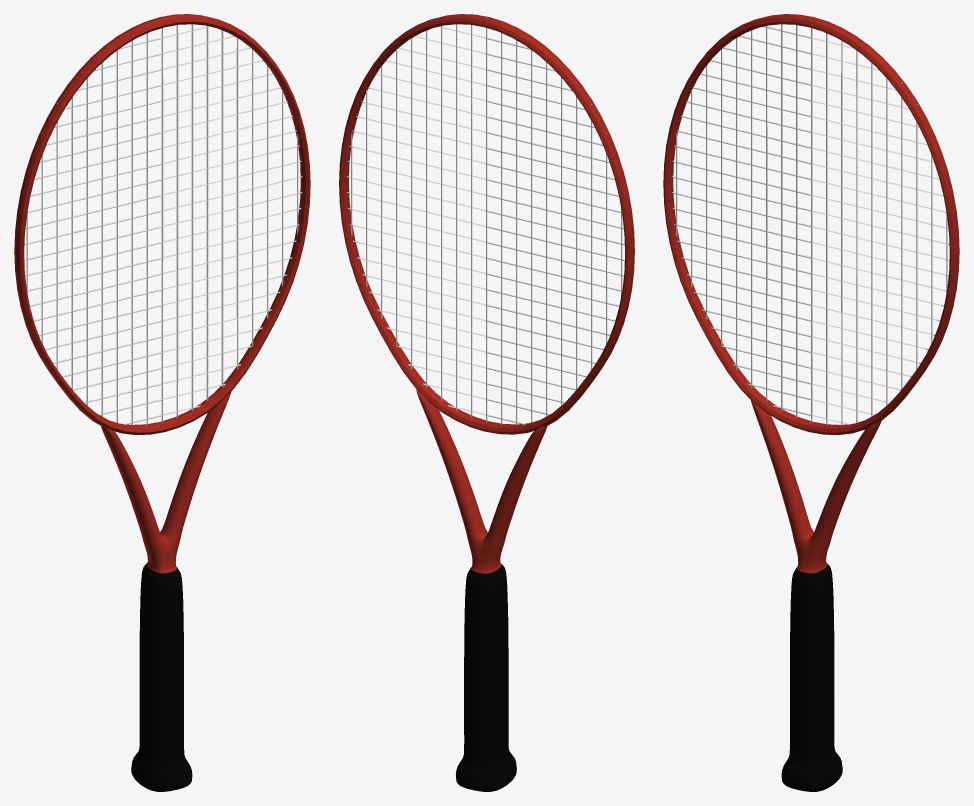
File: racket bad.fbx
3 renders of one model, left to right at view 1: azimuth 30°, elevation 25°; view 2: azimuth 150°, elevation 25°; view 3: azimuth 330°, elevation 25°, orthographic.
Parts seen in each view (by area): view 1: Circle, Vert; view 2: Circle, Vert; view 3: Circle, Vert.
Part boxes in pixels (x1,y1,x2,y2): Circle: [14, 14, 310, 791]; Vert: [24, 17, 302, 425]; Circle: [339, 14, 634, 791]; Vert: [346, 17, 624, 425]; Circle: [663, 14, 959, 791]; Vert: [671, 15, 949, 425].
Size of the model in its own units: 188 by 468 by 37.61.
